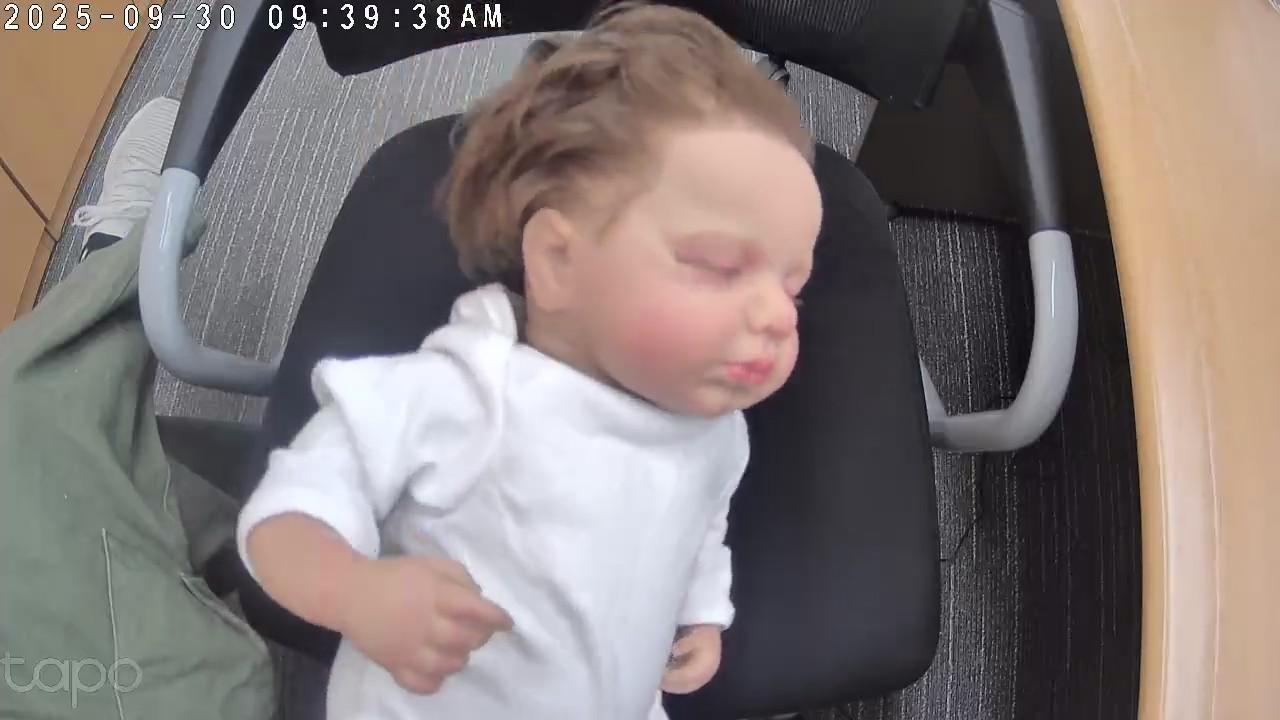hand: (341, 553, 517, 695), (656, 623, 729, 696)
